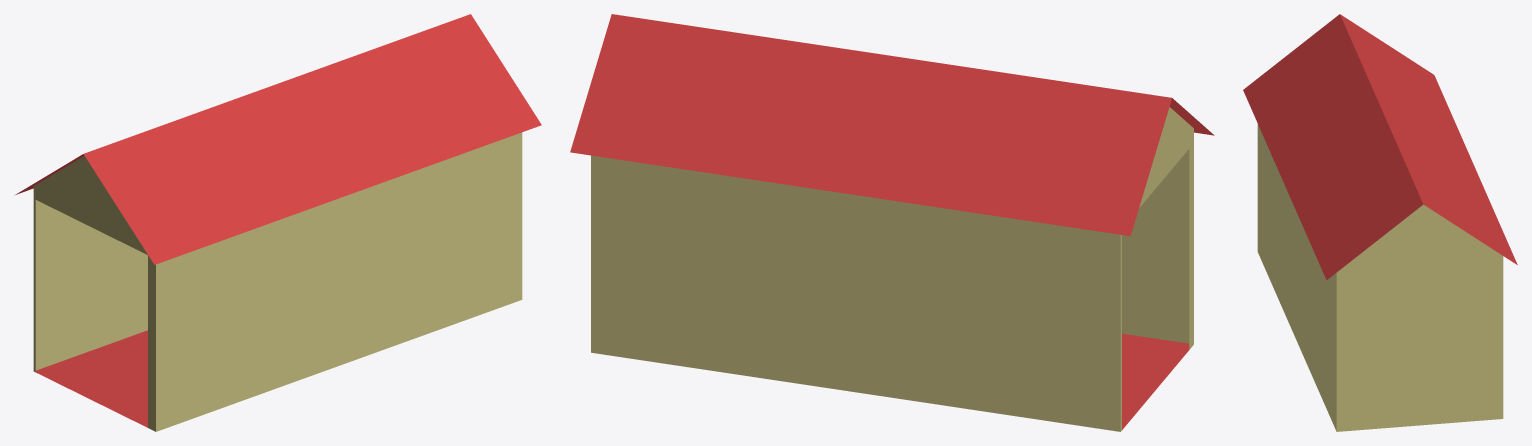
3 views of the same model, side by side, from view 1: azimuth 30°, elevation 25°; view 2: azimuth 150°, elevation 25°; view 3: azimuth 270°, elevation 25° (orthographic). The views are drawn at different scales.
Bounding box in the file's own units: 19.35 × 10.94 × 9.92.
